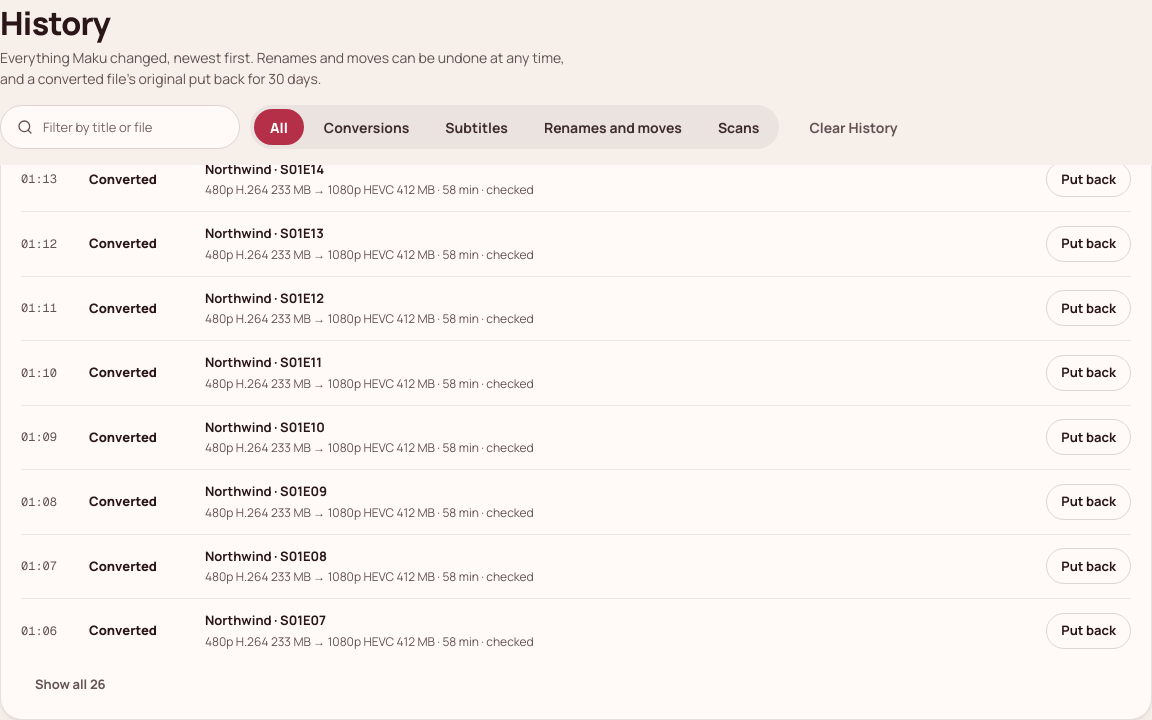
Test: HistoryPage › shows a busy day's first 20, and all of them on asking
(page scrolled)
Step 1. Click the button "Show all 26" → (70, 685), box x1=21 y1=667 x2=120 y2=703
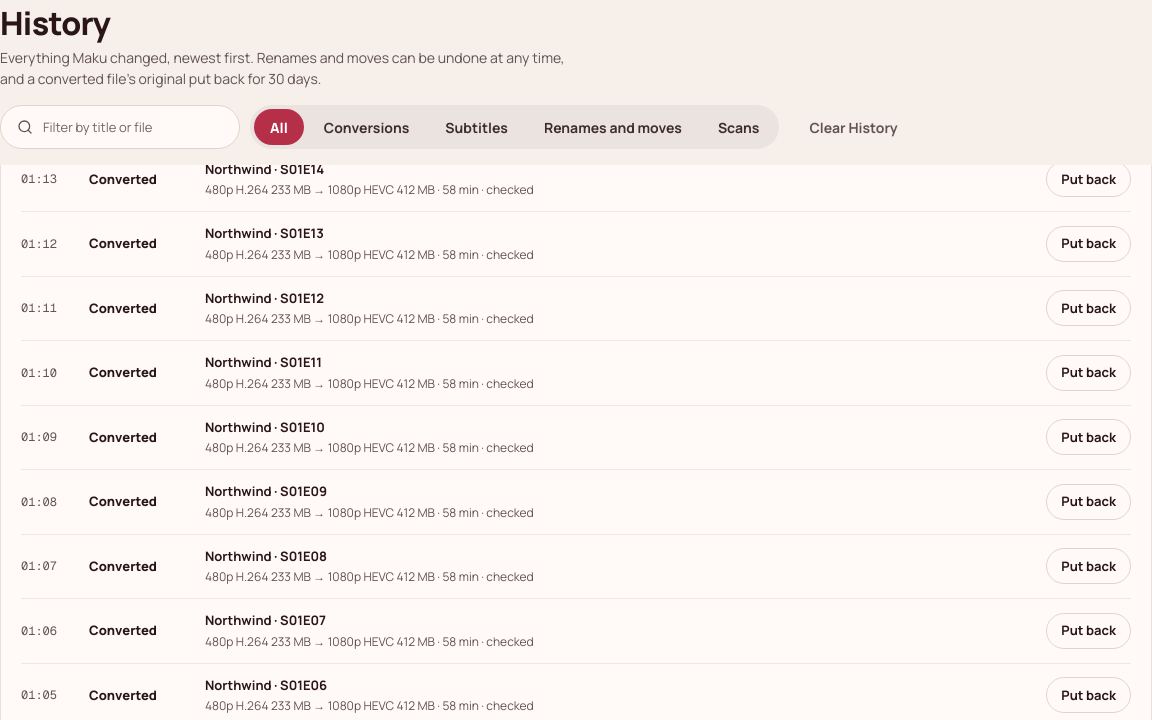
Expected: the button "Show all 26" is gone
